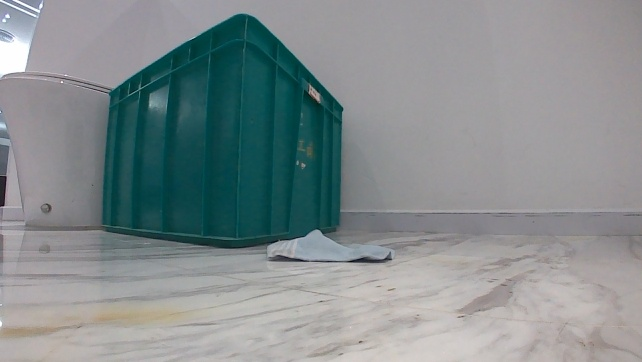socks: (263, 225, 397, 265)
toilet: (0, 65, 116, 232)
